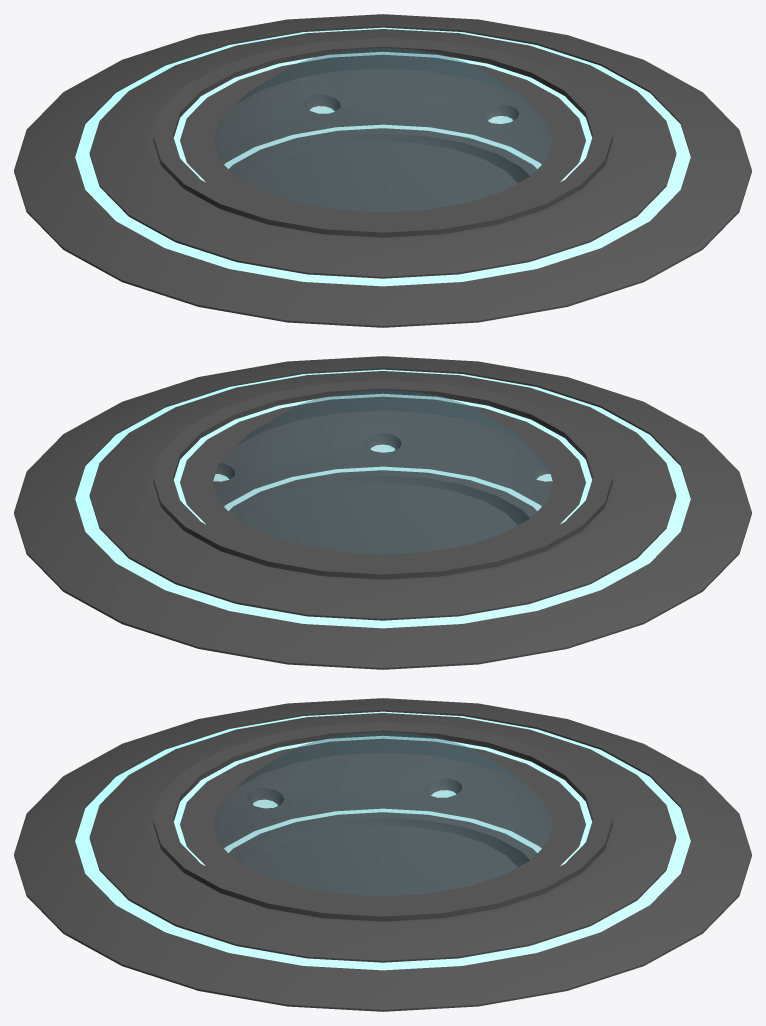
File: alien_ship_low_poly.glb
The picture shows the model from 3 angles, top to bottom: view 1: azimuth 30°, elevation 25°; view 2: azimuth 150°, elevation 25°; view 3: azimuth 270°, elevation 25°; orthographic projection.
Visible parts, largest first — view 1: Cilindro; view 2: Cilindro; view 3: Cilindro.
Part boxes in pixels (left/top/right/bottom): Cilindro: left=14, top=14, right=751, bottom=327; Cilindro: left=14, top=356, right=751, bottom=669; Cilindro: left=14, top=698, right=751, bottom=1011.
Size of the model in its own units: 3.12 by 0.6913 by 3.12.
